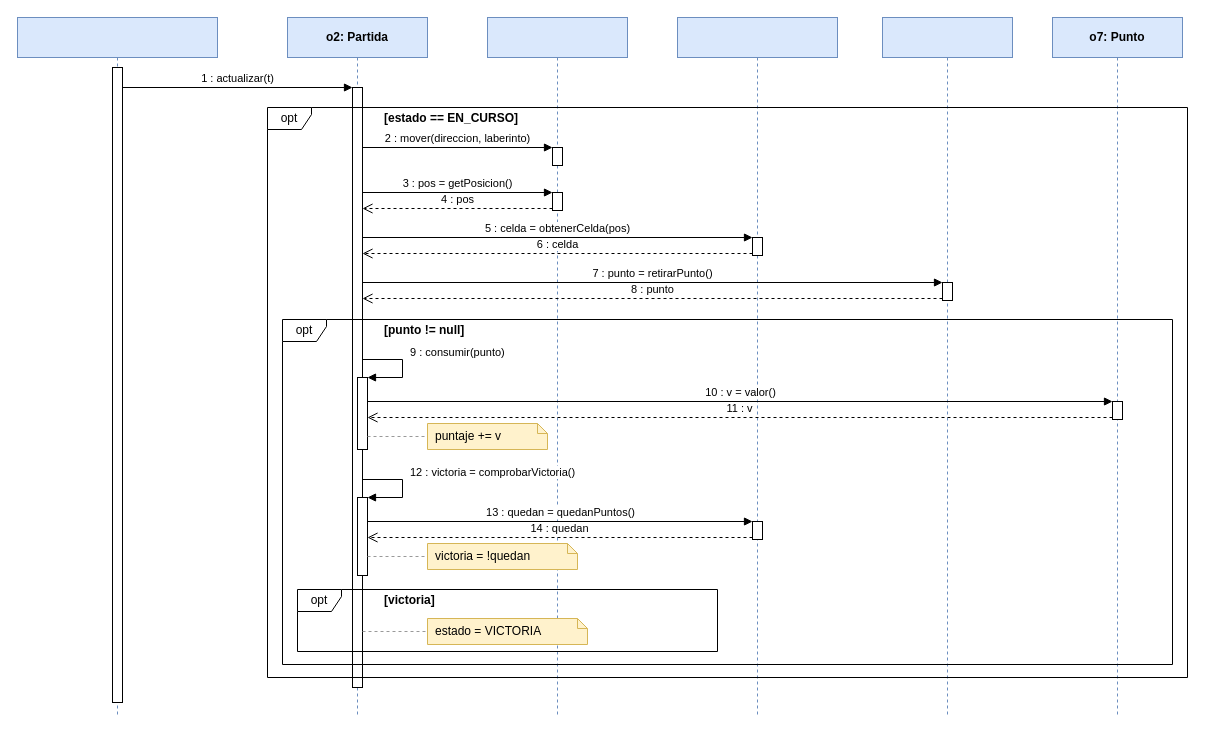
Some shapes in this 1205 by 735 pixel diagram are drawn without their labels. Each missing label, with the box of its shape:
o1: ControladorJuego: (16, 16, 218, 718)
o3: PacMan: (486, 16, 628, 718)
o5: Laberinto: (676, 16, 838, 718)
o6: Celda: (882, 16, 1012, 718)
